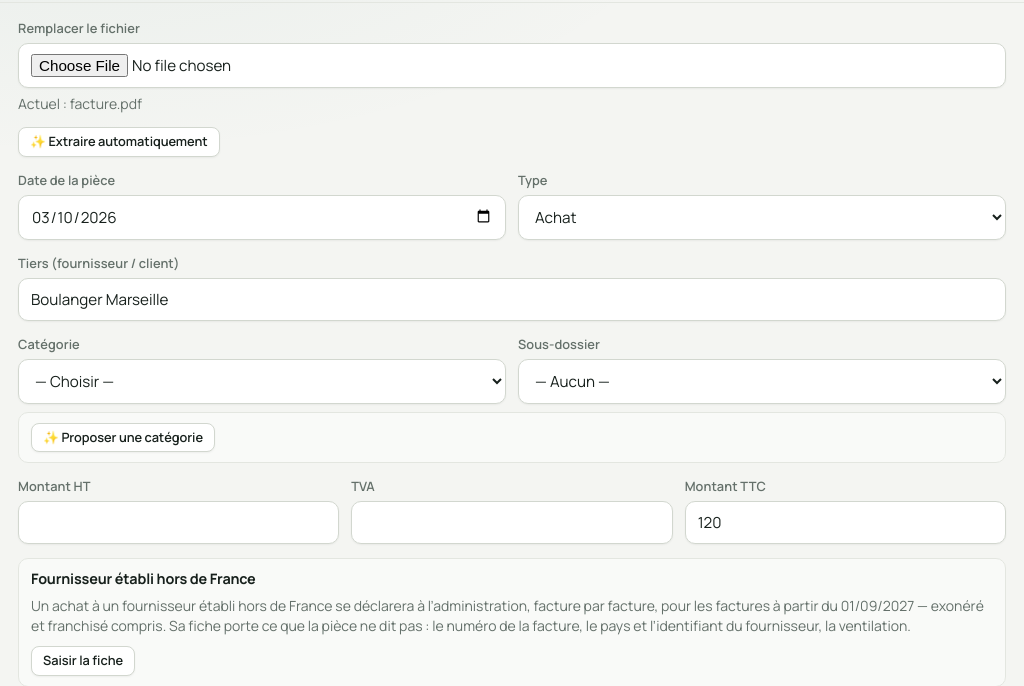
FichePiece — proposer une catégorie › dit l’erreur que la fonction a rendue, pas un repli
Click the button "✨ Proposer une catégorie": (123, 437) [31,422,215,452]
(page scrolled)
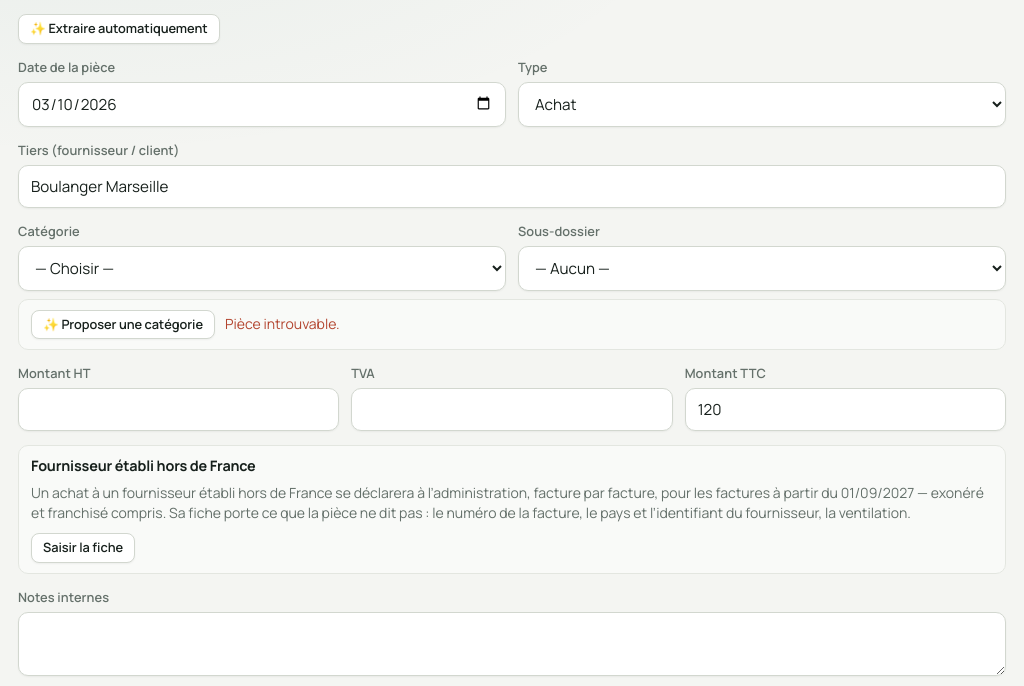
Expected: the text "Pièce introuvable." is shown, [225,314,340,333]
